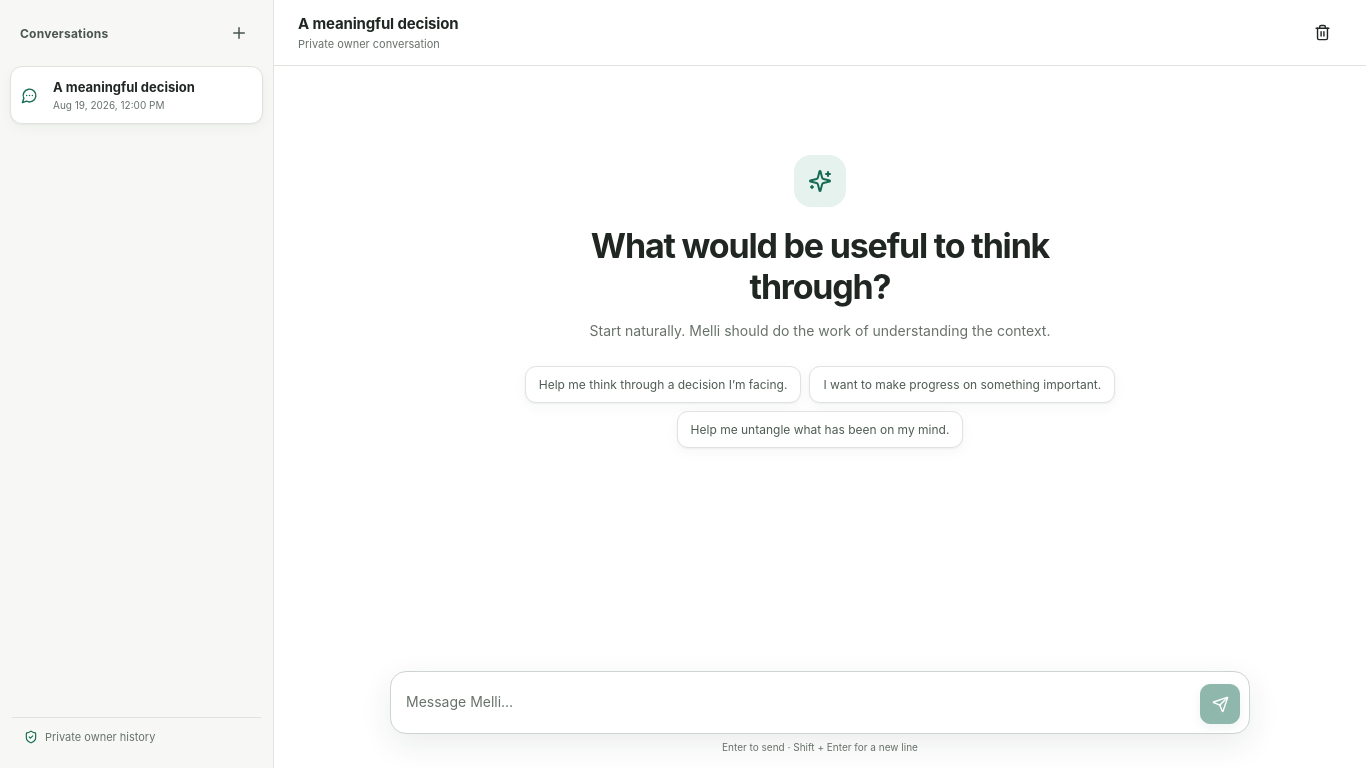
Test case: ConversationPage › keeps a failed message recoverable and reuses its idempotency key
Type "Please try this once." into the text box labelled "Message Melli" at (798, 702), box [406,681,1190,724]
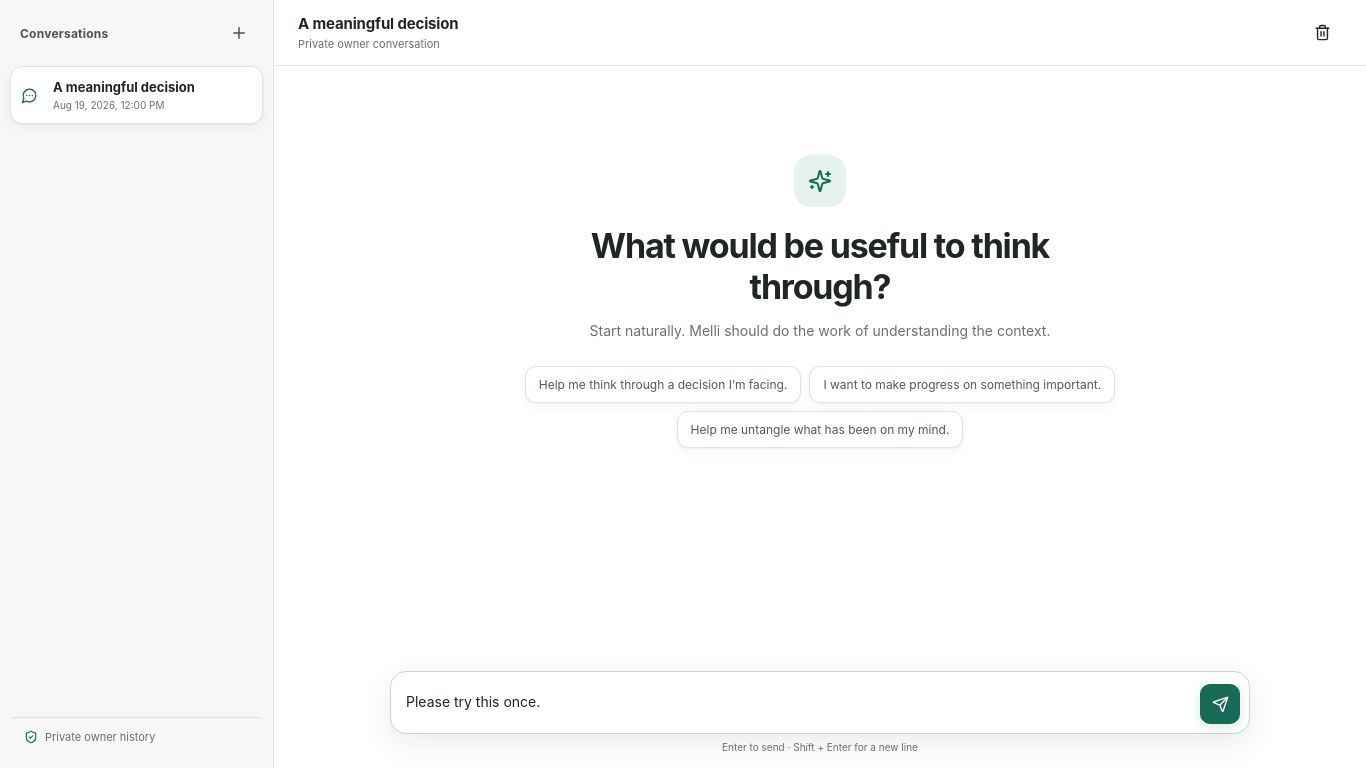
Click the button named "Send message" at (1220, 704), box [1200,684,1240,724]
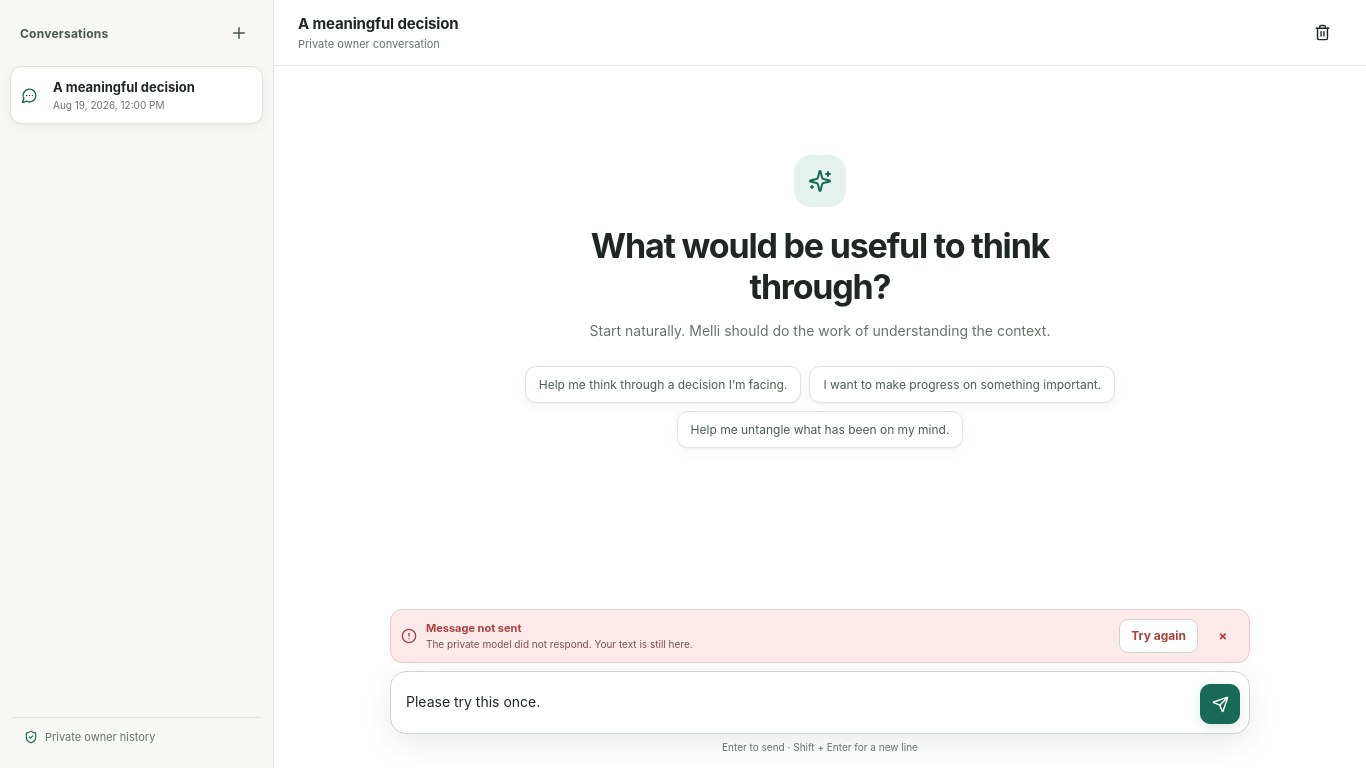
Now the message shows "Message not sent", box [426,621,521,635]
Now the message shows "The private model did not respond.", box [426,638,592,650]
Click the button "Try again" at (1159, 636), box [1119,619,1198,653]
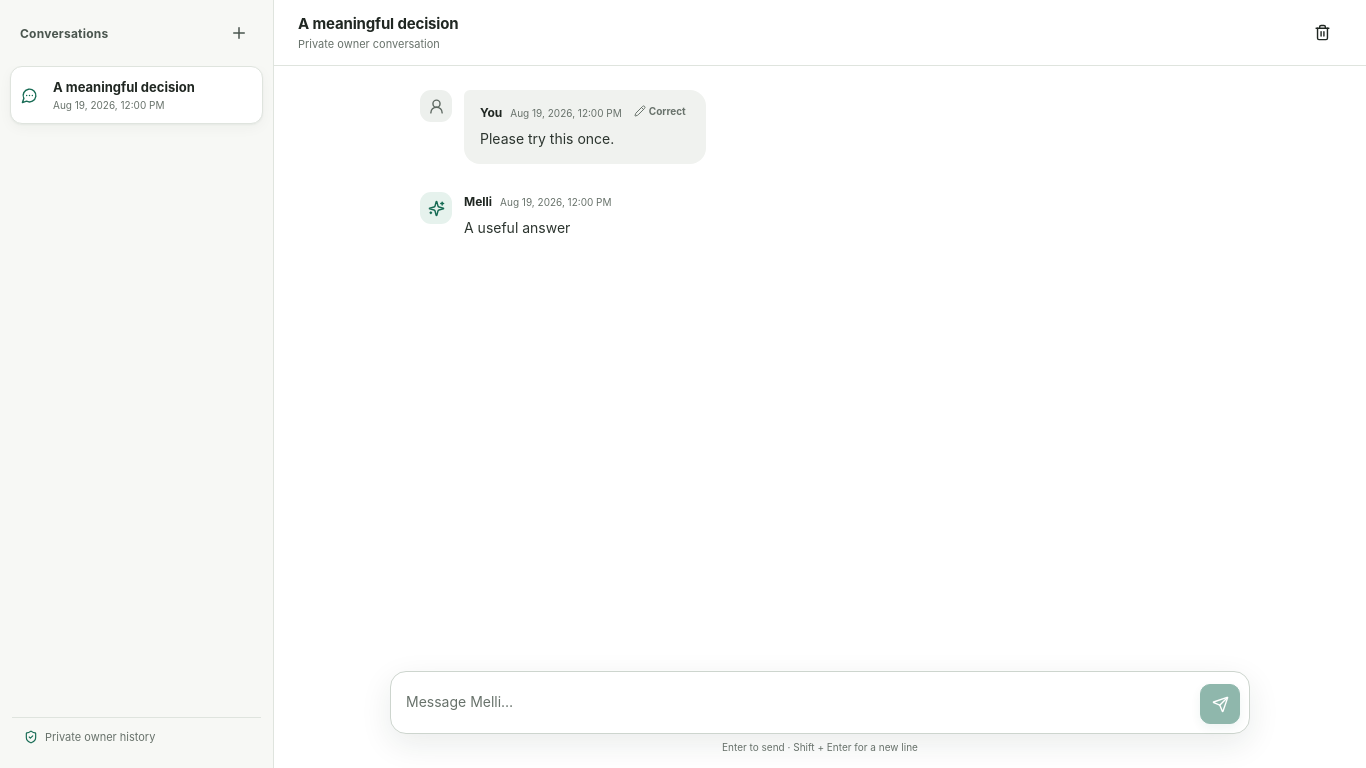
Now the message is gone
